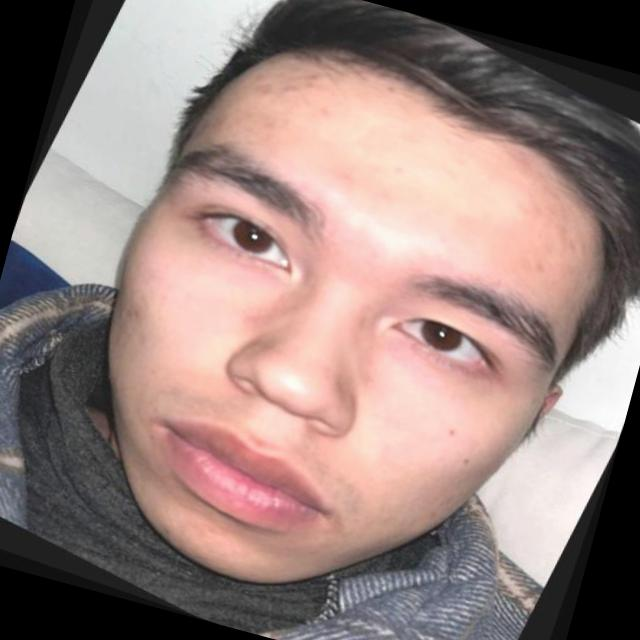nodules: (246, 51, 333, 126), (318, 161, 359, 197), (514, 252, 552, 278)
